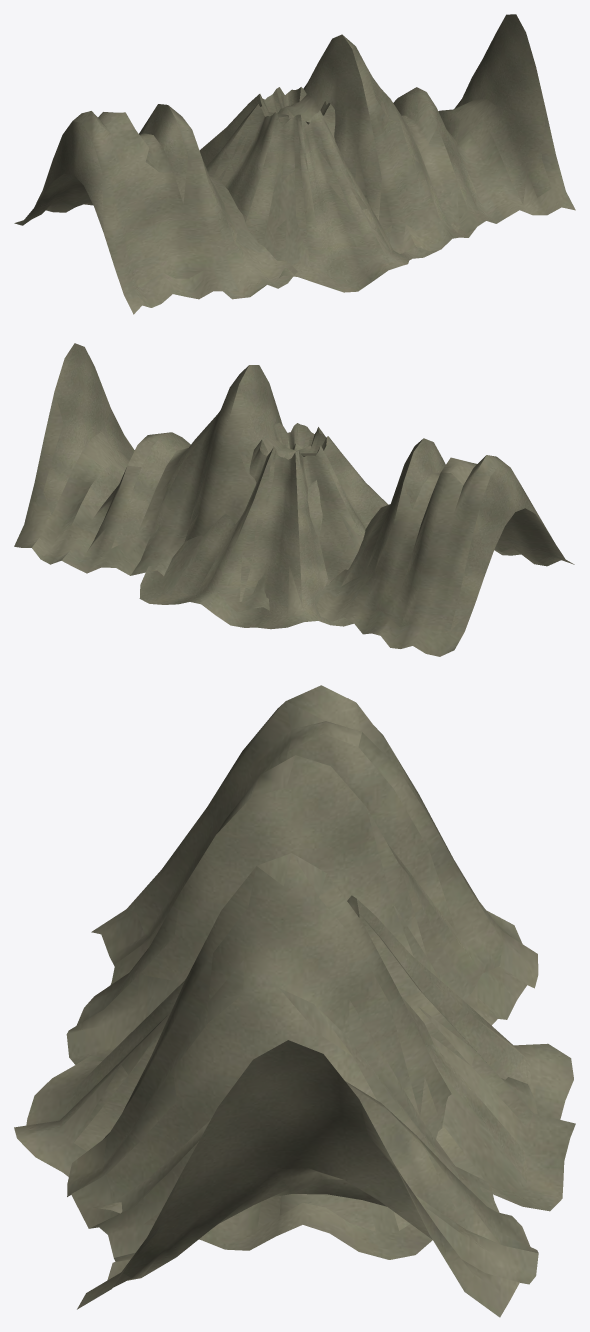
Rendered from alder-kit.optimized.glb.
The picture shows the model from 3 angles, top to bottom: view 1: azimuth 30°, elevation 25°; view 2: azimuth 150°, elevation 25°; view 3: azimuth 270°, elevation 25°; orthographic projection. The views are drawn at different scales.
Parts seen in each view (by area): view 1: Mountain_Ridge • mesh, Caldera • mesh; view 2: Mountain_Ridge • mesh, Caldera • mesh; view 3: Mountain_Ridge • mesh, Caldera • mesh.
Boxes of the visible parts, <box> form: Mountain_Ridge • mesh: <box>14,14,575,314</box>; Caldera • mesh: <box>199,87,460,299</box>; Mountain_Ridge • mesh: <box>14,343,574,656</box>; Caldera • mesh: <box>139,422,388,629</box>; Mountain_Ridge • mesh: <box>66,685,538,1317</box>; Caldera • mesh: <box>14,895,575,1259</box>.
Size of the model in its own units: 110 by 45.25 by 69.04.
Materials: 2 (2 with a texture image).
